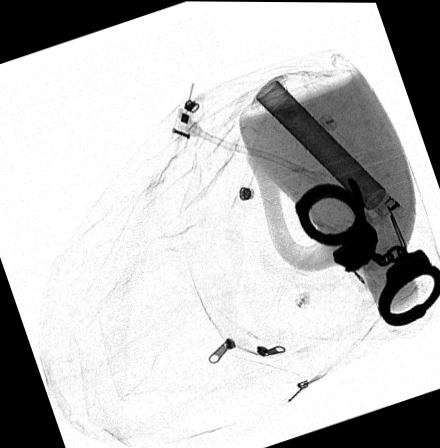HandCuffs: (293, 176, 440, 325)
